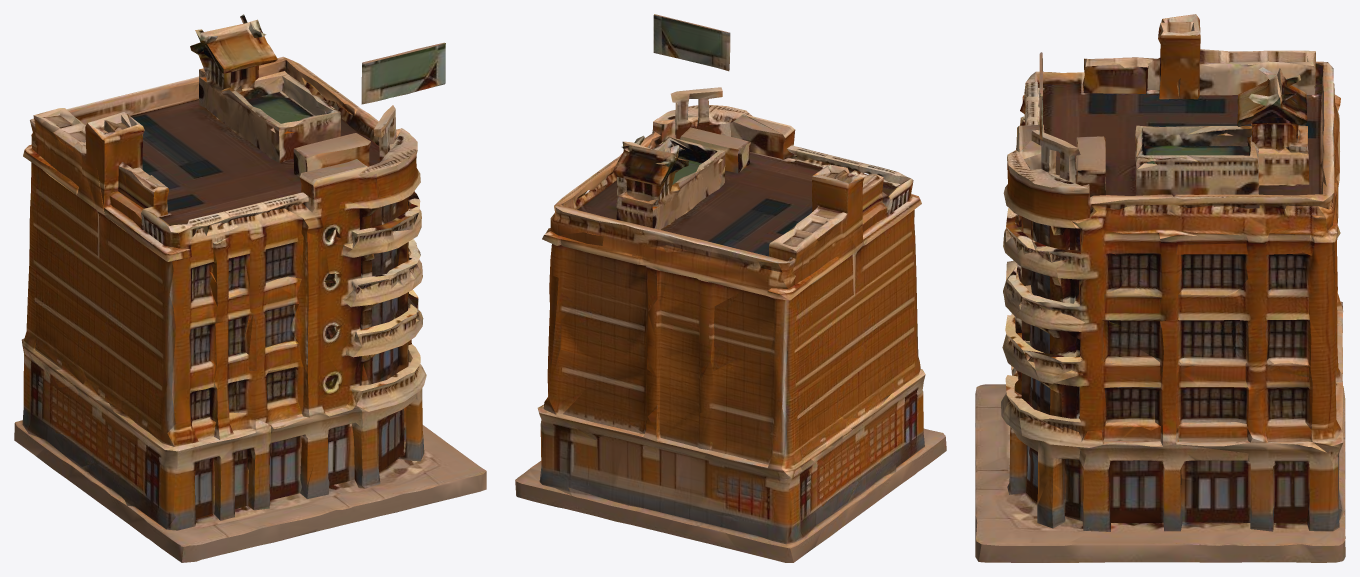
The model's file is hayashi-department-store.glb.
3 renders of one model, left to right at view 1: azimuth 30°, elevation 25°; view 2: azimuth 150°, elevation 25°; view 3: azimuth 270°, elevation 25°, orthographic. The views are drawn at different scales.
Visible parts, largest first — view 1: logan-textured.obj; view 2: logan-textured.obj; view 3: logan-textured.obj.
Boxes of the visible parts, x1=… form: logan-textured.obj: x1=14, y1=14, x2=486, y2=562; logan-textured.obj: x1=515, y1=14, x2=946, y2=562; logan-textured.obj: x1=975, y1=14, x2=1345, y2=562.
Bounding box in the file's own units: 0.7498 × 1 × 0.7295.
1 material, 1 textured.
